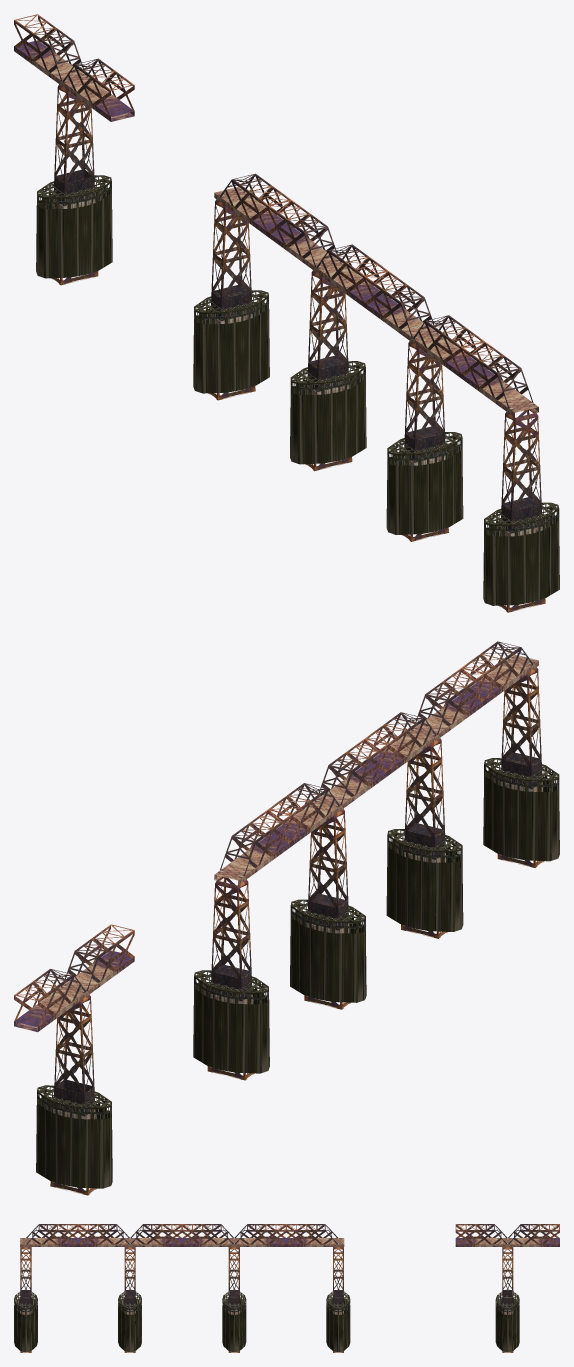
File: Bridges.fbx
The picture shows the model from 3 angles, top to bottom: view 1: azimuth 30°, elevation 25°; view 2: azimuth 150°, elevation 25°; view 3: azimuth 270°, elevation 25°; orthographic projection. The views are drawn at different scales.
Visible parts, largest first — view 1: RedheughBridge, RedheughBridgeSgement; view 2: RedheughBridge, RedheughBridgeSgement; view 3: RedheughBridge, RedheughBridgeSgement.
Boxes of the visible parts, left/top/right/bottom form: RedheughBridge: left=193, top=173, right=559, bottom=612; RedheughBridgeSgement: left=14, top=14, right=134, bottom=285; RedheughBridge: left=193, top=641, right=559, bottom=1080; RedheughBridgeSgement: left=14, top=924, right=134, bottom=1195; RedheughBridge: left=14, top=1224, right=350, bottom=1352; RedheughBridgeSgement: left=455, top=1224, right=559, bottom=1352.
Bounding box in the file's own units: 1318 × 3842 × 15725.
1 material, 1 textured.
